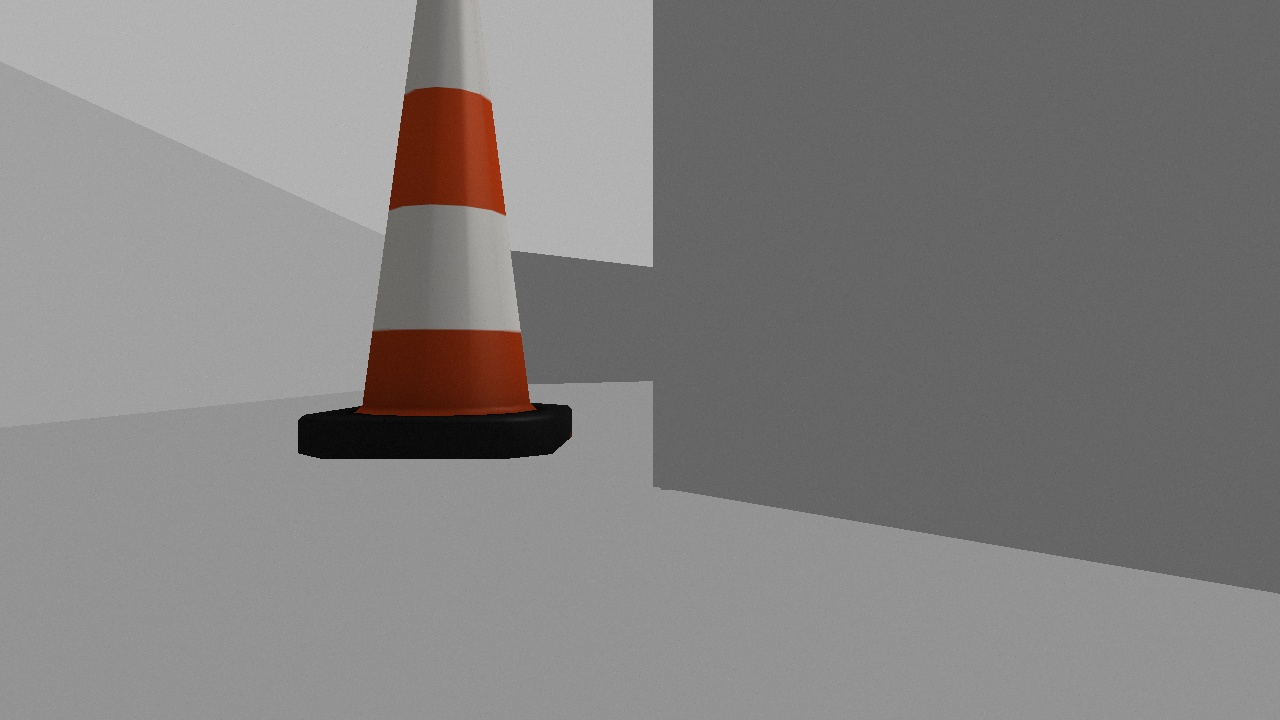barricade: (295, 1, 573, 462)
